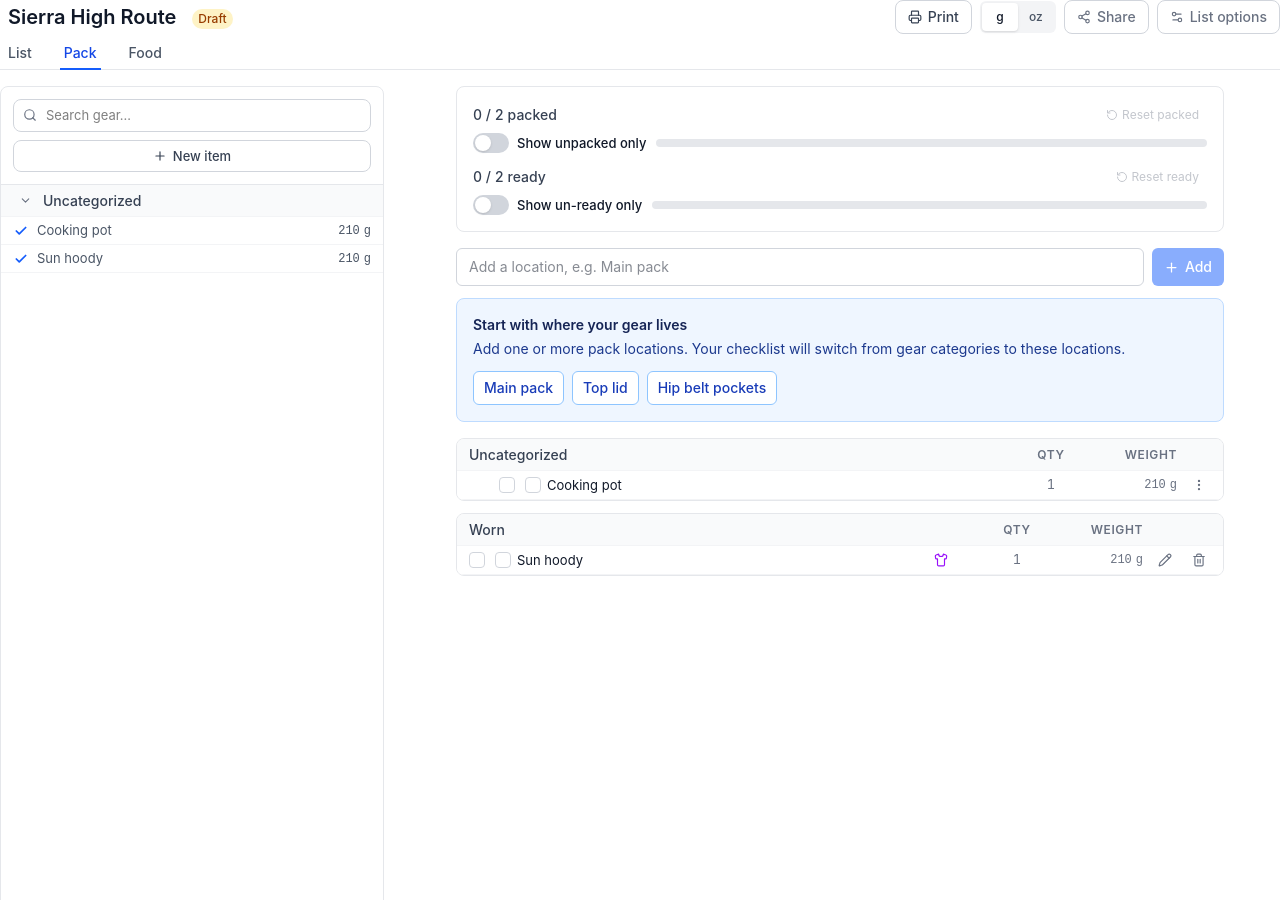
Test: removing gear from Pack view › opens the gear editor from a worn pack row, which has no kebab
Expected: the field named "New packing location" is shown, [456,248,1144,286]
Click the button named "Edit Sun hoody". click: (1165, 560)
box: [1153,546,1177,574]
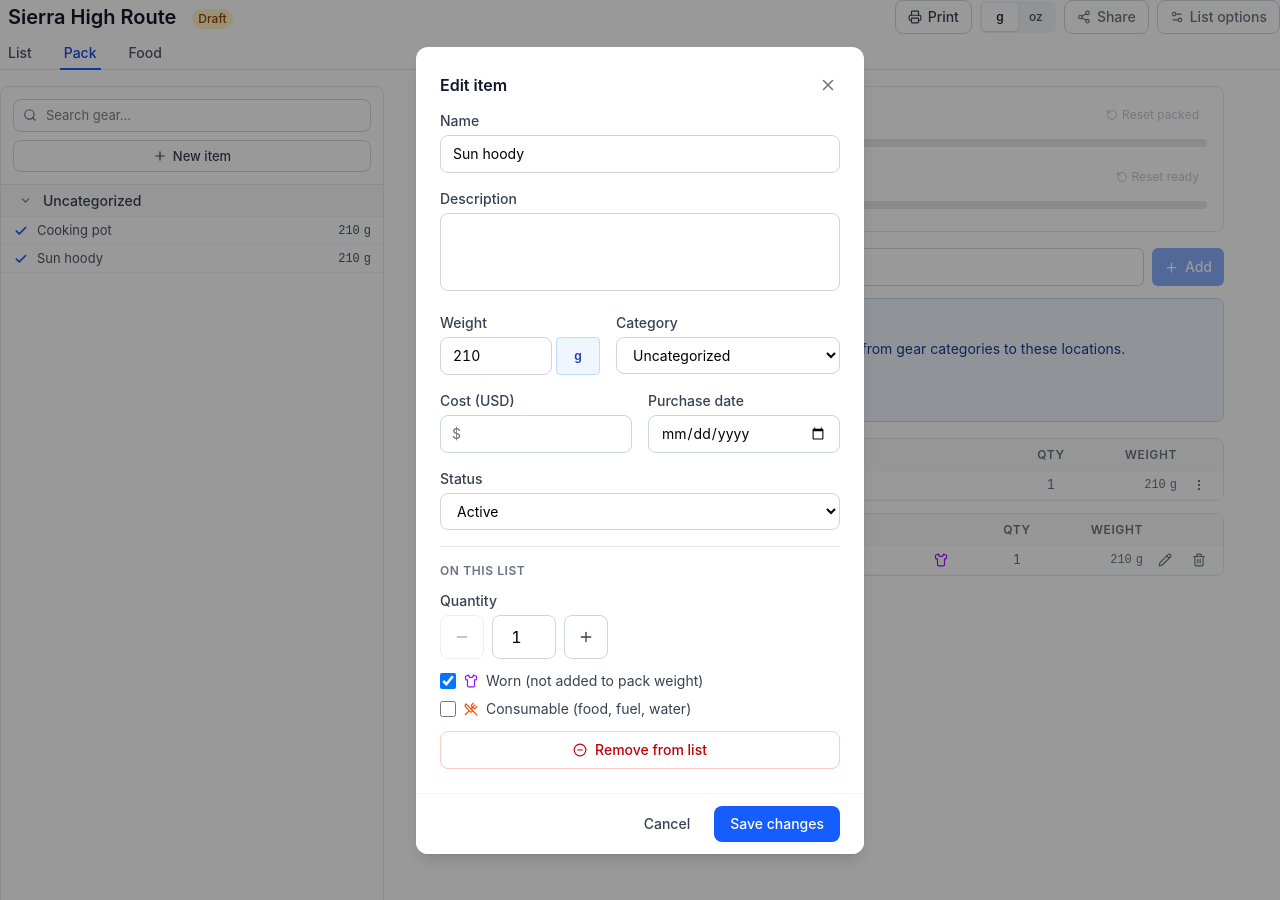
Result: the dialog is shown at [416,46,864,854]
